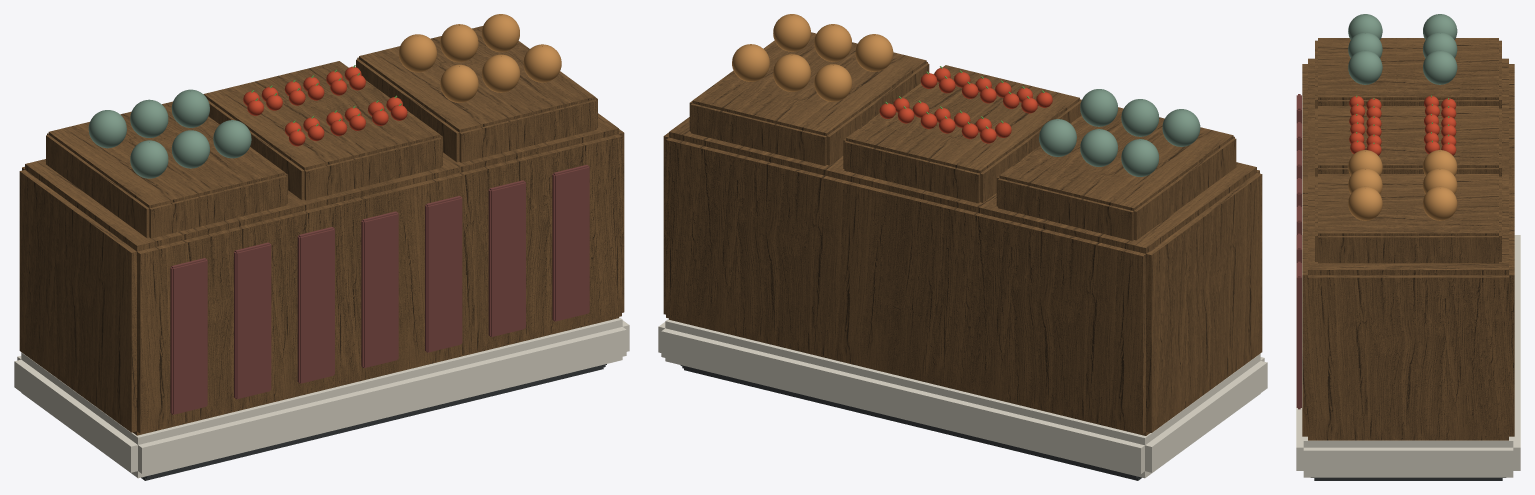
Rendered from collection_v29_food_1.glb.
3 renders of one model, left to right at view 1: azimuth 30°, elevation 25°; view 2: azimuth 150°, elevation 25°; view 3: azimuth 270°, elevation 25°, orthographic. The views are drawn at different scales.
Visible parts, largest first — view 1: collection_v29_food_1_CC0_Oak_veneer, collection_v29_food_1_V29_oxblood_lacquer, collection_v29_food_1_V29_ivory_lacquer, collection_v29_food_1_Anodised_graphite, collection_v29_food_1_V23_soft_sage.011, collection_v29_food_1_Laminated_pastry.010, collection_v29_food_1_Laminated_pastry.011, collection_v29_food_1_V23_soft_sage.015, collection_v29_food_1_V23_soft_sage.012, collection_v29_food_1_V23_soft_sage.013, collection_v29_food_1_V23_soft_sage.016, collection_v29_food_1_Laminated_pastry.009 (+10 smaller); view 2: collection_v29_food_1_CC0_Oak_veneer, collection_v29_food_1_V29_ivory_lacquer, collection_v29_food_1_Anodised_graphite, collection_v29_food_1_V23_soft_sage.011, collection_v29_food_1_V23_soft_sage.016, collection_v29_food_1_V23_soft_sage.014, collection_v29_food_1_V23_soft_sage.015, collection_v29_food_1_Laminated_pastry.010, collection_v29_food_1_Laminated_pastry.012, collection_v29_food_1_Laminated_pastry.009, collection_v29_food_1_Laminated_pastry.011, collection_v29_food_1_Laminated_pastry.007 (+9 smaller); view 3: collection_v29_food_1_CC0_Oak_veneer, collection_v29_food_1_V29_ivory_lacquer, collection_v29_food_1_V29_oxblood_lacquer, collection_v29_food_1_V23_soft_sage.016, collection_v29_food_1_Laminated_pastry.012, collection_v29_food_1_V23_soft_sage.015, collection_v29_food_1_Laminated_pastry.011, collection_v29_food_1_Anodised_graphite, collection_v29_food_1_V23_soft_sage.011, collection_v29_food_1_V23_soft_sage.013, collection_v29_food_1_Laminated_pastry.007, collection_v29_food_1_Laminated_pastry.009 (+10 smaller).
Part boxes in pixels (bbox=[...]): collection_v29_food_1_CC0_Oak_veneer: bbox=[19, 26, 624, 435]; collection_v29_food_1_V29_oxblood_lacquer: bbox=[170, 165, 589, 414]; collection_v29_food_1_V29_ivory_lacquer: bbox=[14, 317, 629, 478]; collection_v29_food_1_Anodised_graphite: bbox=[141, 364, 606, 480]; collection_v29_food_1_V23_soft_sage.011: bbox=[130, 140, 168, 178]; collection_v29_food_1_Laminated_pastry.010: bbox=[440, 24, 478, 62]; collection_v29_food_1_Laminated_pastry.011: bbox=[523, 44, 561, 82]; collection_v29_food_1_V23_soft_sage.015: bbox=[213, 120, 251, 158]; collection_v29_food_1_V23_soft_sage.012: bbox=[88, 110, 126, 148]; collection_v29_food_1_V23_soft_sage.013: bbox=[171, 130, 209, 168]; collection_v29_food_1_V23_soft_sage.016: bbox=[171, 89, 209, 127]; collection_v29_food_1_Laminated_pastry.009: bbox=[482, 54, 520, 92]; collection_v29_food_1_CC0_Oak_veneer: bbox=[663, 32, 1262, 435]; collection_v29_food_1_V29_ivory_lacquer: bbox=[658, 319, 1267, 478]; collection_v29_food_1_Anodised_graphite: bbox=[680, 365, 1141, 480]; collection_v29_food_1_V23_soft_sage.011: bbox=[1162, 109, 1200, 146]; collection_v29_food_1_V23_soft_sage.016: bbox=[1039, 119, 1076, 156]; collection_v29_food_1_V23_soft_sage.014: bbox=[1080, 129, 1117, 166]; collection_v29_food_1_V23_soft_sage.015: bbox=[1080, 89, 1117, 126]; collection_v29_food_1_Laminated_pastry.010: bbox=[773, 54, 810, 91]; collection_v29_food_1_Laminated_pastry.012: bbox=[732, 44, 769, 81]; collection_v29_food_1_Laminated_pastry.009: bbox=[814, 24, 851, 61]; collection_v29_food_1_Laminated_pastry.011: bbox=[773, 14, 810, 51]; collection_v29_food_1_Laminated_pastry.007: bbox=[855, 34, 893, 71]; collection_v29_food_1_CC0_Oak_veneer: bbox=[1302, 38, 1514, 440]; collection_v29_food_1_V29_ivory_lacquer: bbox=[1296, 235, 1520, 477]; collection_v29_food_1_V29_oxblood_lacquer: bbox=[1296, 94, 1301, 409]; collection_v29_food_1_V23_soft_sage.016: bbox=[1423, 50, 1457, 84]; collection_v29_food_1_Laminated_pastry.012: bbox=[1423, 186, 1457, 220]; collection_v29_food_1_V23_soft_sage.015: bbox=[1348, 50, 1382, 84]; collection_v29_food_1_Laminated_pastry.011: bbox=[1348, 186, 1382, 220]; collection_v29_food_1_Anodised_graphite: bbox=[1311, 477, 1505, 480]; collection_v29_food_1_V23_soft_sage.011: bbox=[1348, 14, 1382, 39]; collection_v29_food_1_V23_soft_sage.013: bbox=[1348, 32, 1382, 58]; collection_v29_food_1_Laminated_pastry.007: bbox=[1348, 150, 1382, 175]; collection_v29_food_1_Laminated_pastry.009: bbox=[1348, 168, 1382, 194].
Size of the model in its own units: 1.8 by 1.07 by 0.78.
Materials: 28 (1 with a texture image).
